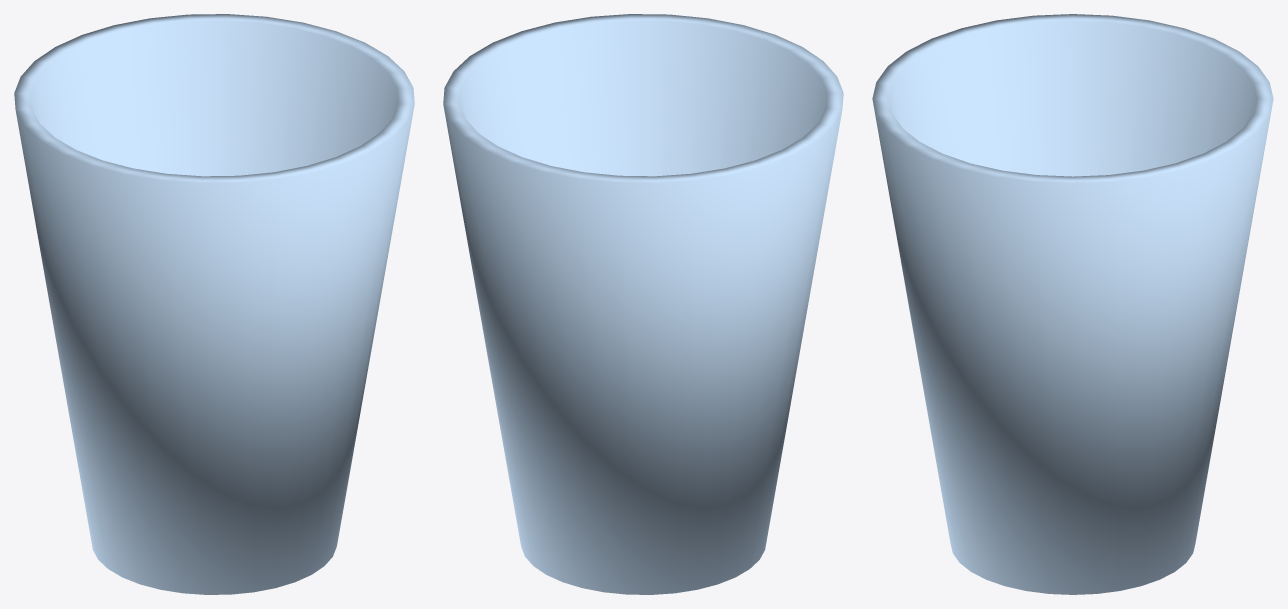
File: GlassV2.fbx
The picture shows the model from 3 angles, left to right: view 1: azimuth 30°, elevation 25°; view 2: azimuth 150°, elevation 25°; view 3: azimuth 270°, elevation 25°; orthographic projection.
Parts seen in each view (by area): view 1: Glass; view 2: Glass; view 3: Glass.
Boxes of the visible parts, left/top/right/bottom form: Glass: left=14, top=14, right=414, bottom=594; Glass: left=443, top=14, right=843, bottom=594; Glass: left=872, top=14, right=1273, bottom=594.
Bounding box in the file's own units: 164 × 164 × 200.
